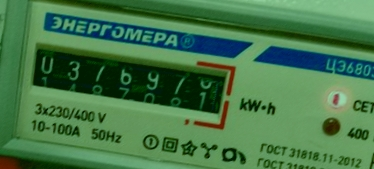0: (39, 52, 57, 75)
1: (197, 89, 209, 112)
3: (67, 58, 82, 81)
6: (118, 62, 136, 86)
7: (93, 59, 110, 84), (172, 70, 189, 95)
9: (145, 67, 162, 91)
screen: (19, 32, 241, 133)
